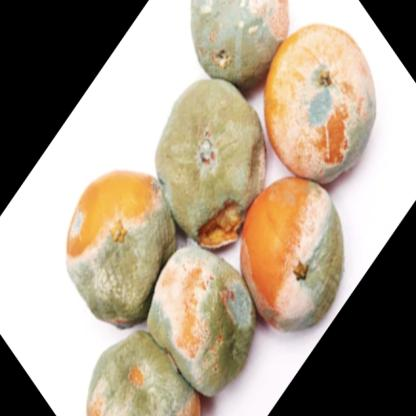rotten: (69, 1, 374, 416)
